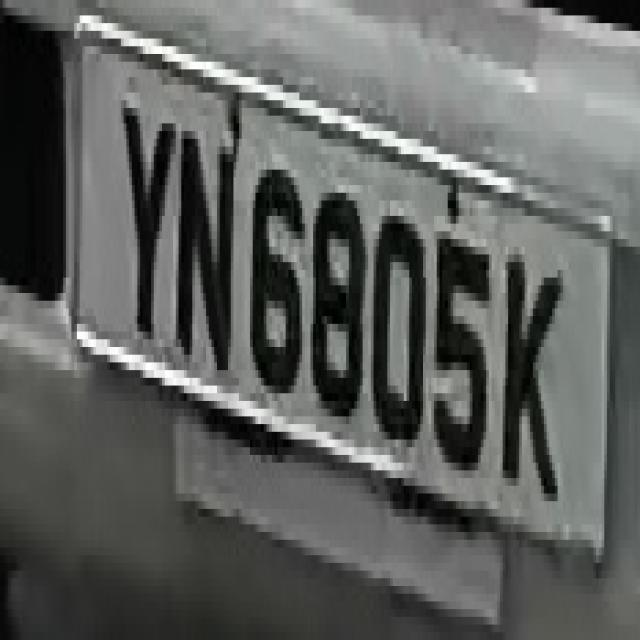0: (368, 178, 434, 470)
5: (431, 185, 497, 486)
6: (250, 116, 302, 416)
8: (313, 170, 368, 447)
K: (500, 208, 568, 532)
N: (181, 69, 242, 401)
Y: (113, 77, 170, 370)
